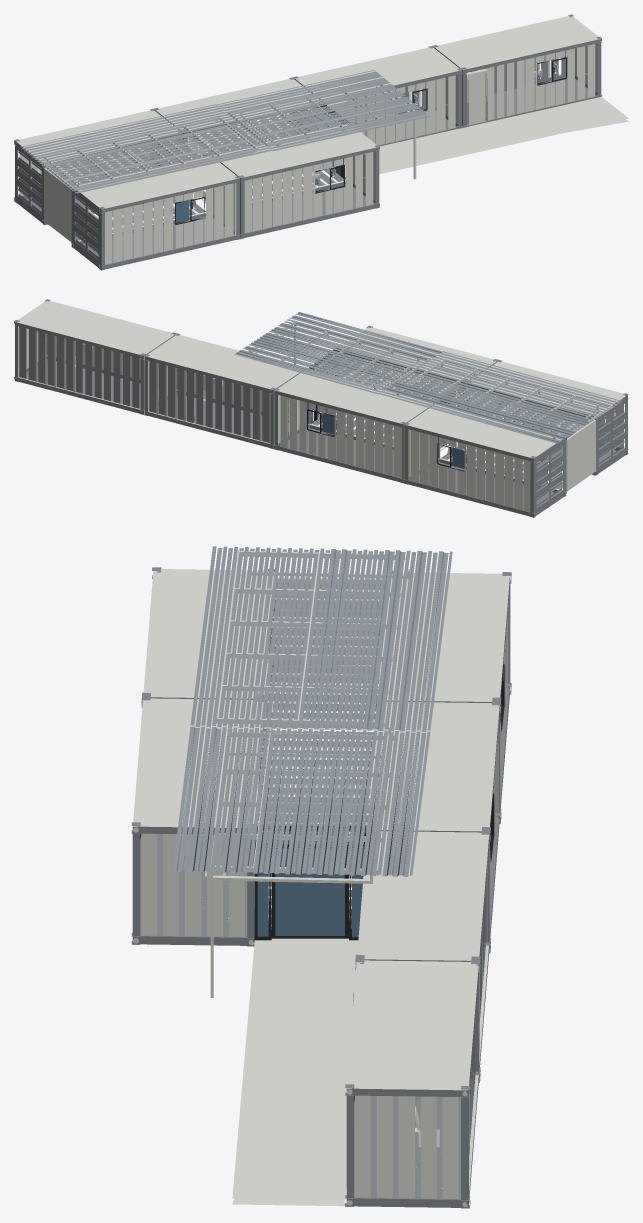
Rendered from office-l1.glb.
3 views of the same model, one above another, from view 1: azimuth 30°, elevation 25°; view 2: azimuth 150°, elevation 25°; view 3: azimuth 270°, elevation 25° (orthographic). The views are drawn at different scales.
Visible parts, largest first — view 1: Object_10; view 2: Object_10; view 3: Object_10.
Boxes of the visible parts, bbox=[...] form: Object_10: bbox=[14, 14, 628, 270]; Object_10: bbox=[14, 299, 628, 517]; Object_10: bbox=[131, 546, 511, 1208].
Size of the model in its own units: 25.06 by 2.95 by 7.58.
Materials: 1 (1 with a texture image).
